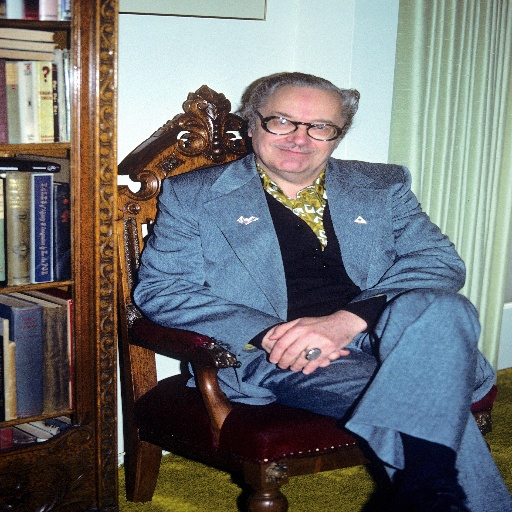hand: (263, 314, 356, 374), (260, 324, 349, 368)
